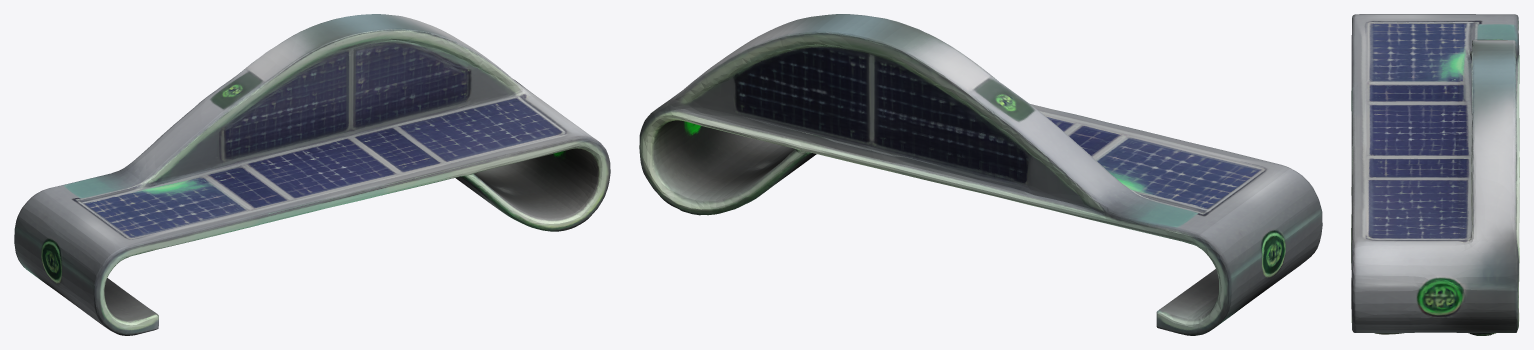
Rendered from bridge.glb.
3 views of the same model, side by side, from view 1: azimuth 30°, elevation 25°; view 2: azimuth 150°, elevation 25°; view 3: azimuth 270°, elevation 25° (orthographic). The views are drawn at different scales.
Visible parts, largest first — view 1: world; view 2: world; view 3: world.
Boxes of the visible parts, x1,y1,x2,y2 form: world: (14, 14, 610, 335); world: (639, 14, 1322, 335); world: (1351, 14, 1519, 335).
Bounding box in the file's own units: 1 × 0.3617 × 0.2781.
1 material, 1 textured.
